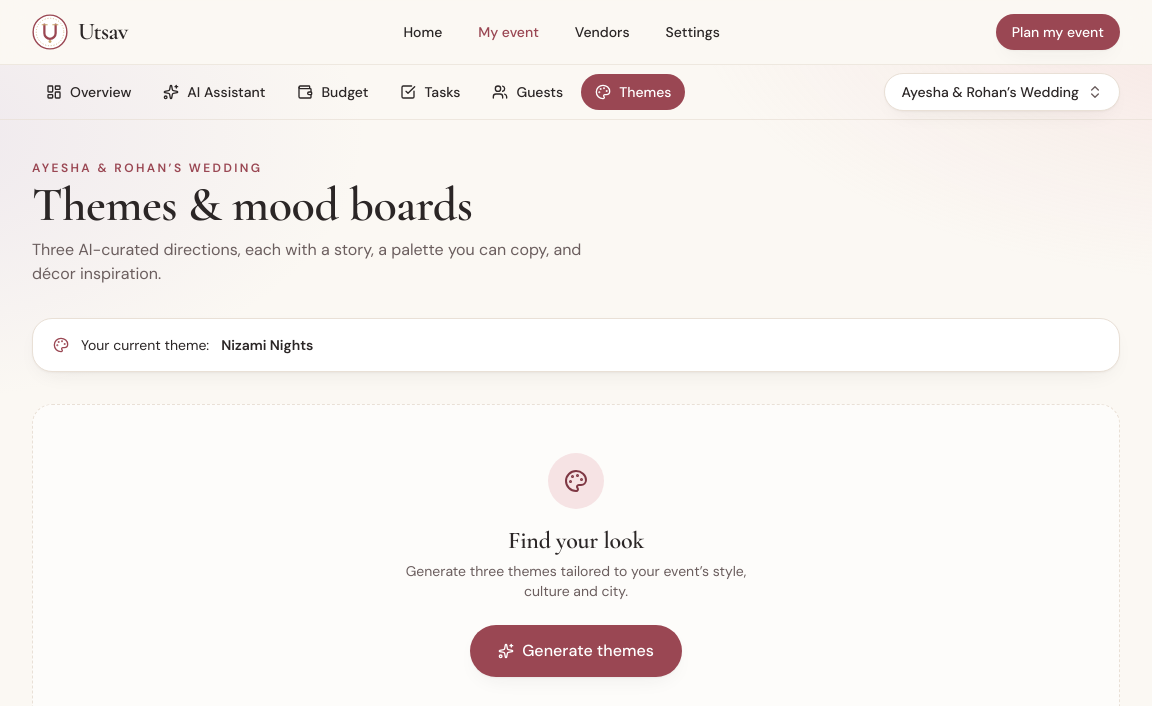
Test: ThemesPage › shows three theme cards with palettes, décor and a gallery
Click the button "Generate themes".
click(576, 651)  # box [470,625,682,677]
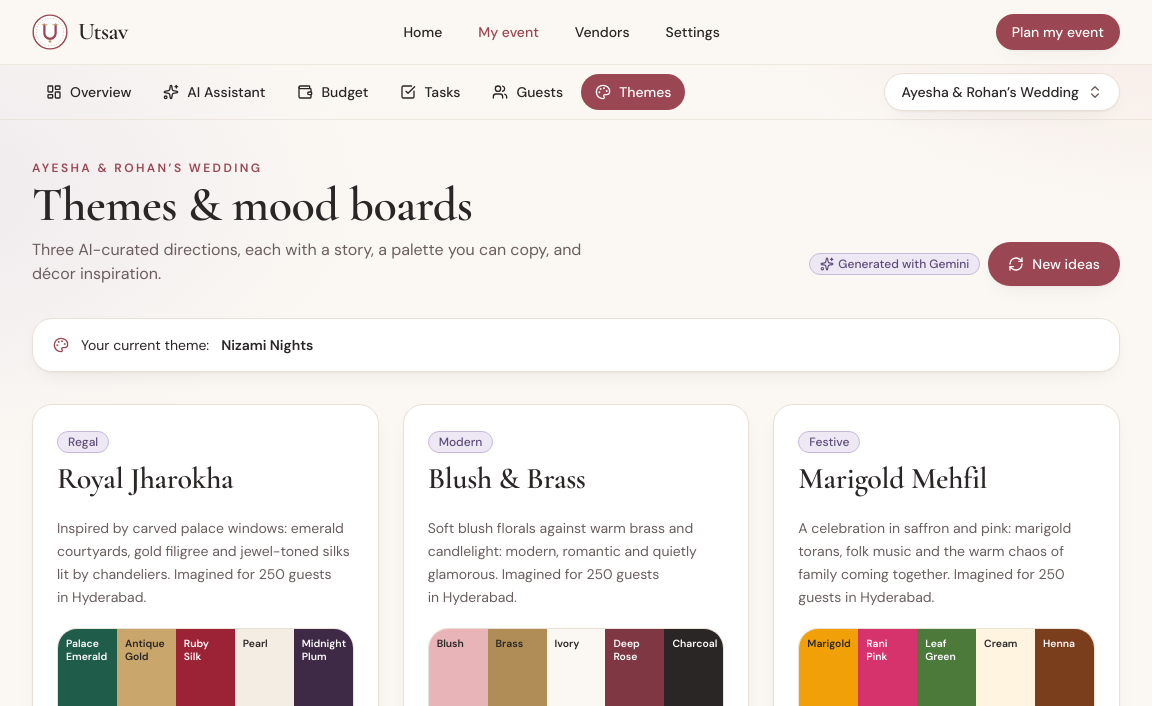
Expected: the heading "Royal Jharokha" is shown, [57,461,233,497]
Expected: the text "Generated with Gemini" is shown, [809,253,980,275]
